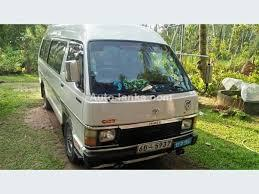Van: (39, 24, 203, 161)
